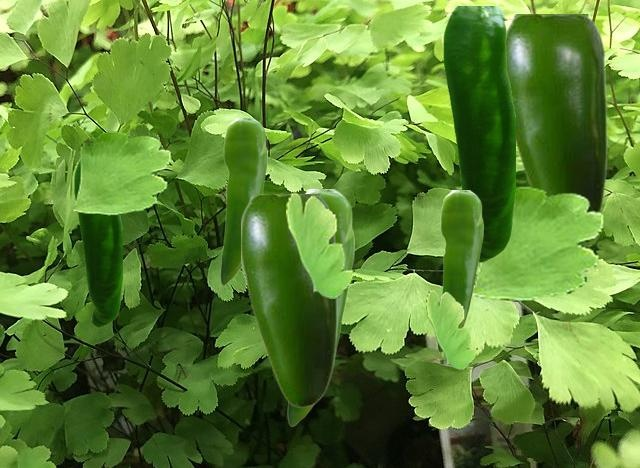green_chili: (506, 14, 606, 243), (241, 194, 336, 407), (443, 6, 514, 261), (287, 189, 353, 425), (74, 158, 121, 326), (220, 118, 266, 284), (437, 190, 482, 351)
